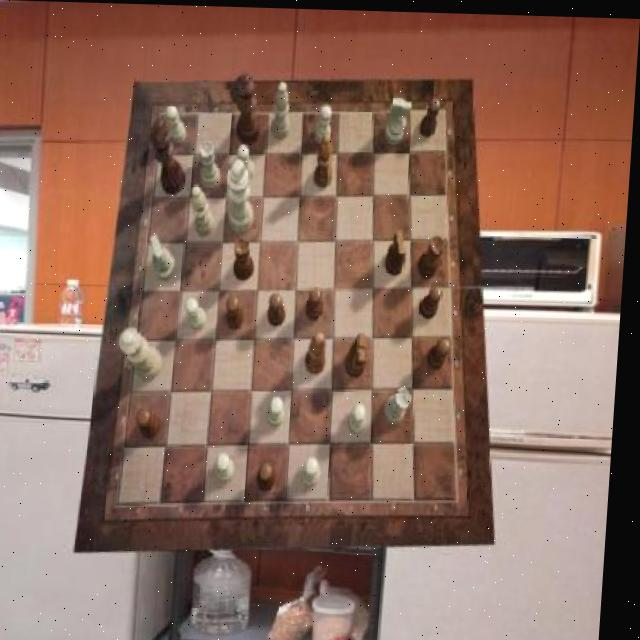bishop: (315, 131, 337, 187), (309, 329, 333, 372)
black-bishop: (149, 116, 191, 194)
black-king: (349, 330, 373, 376), (387, 228, 410, 274)
black-knight: (419, 94, 442, 135), (423, 284, 447, 319), (141, 407, 167, 438), (431, 335, 455, 368), (230, 293, 250, 328), (272, 291, 291, 326), (308, 286, 327, 320), (263, 460, 284, 488)
black-pawn: (233, 72, 266, 145)
black-queen: (420, 232, 448, 276), (234, 237, 259, 280)
black-rook: (191, 183, 218, 236), (274, 79, 294, 137)
white-bishop: (227, 158, 258, 232)
white-king: (150, 233, 180, 280), (385, 95, 412, 142)
white-knight: (166, 104, 190, 143), (188, 297, 212, 330), (315, 105, 333, 145), (238, 144, 257, 181), (306, 455, 327, 487), (353, 402, 372, 434), (271, 394, 290, 426), (221, 452, 241, 482)
white-pawn: (122, 326, 169, 381)
white-queen: (198, 140, 223, 187), (388, 385, 416, 423)
